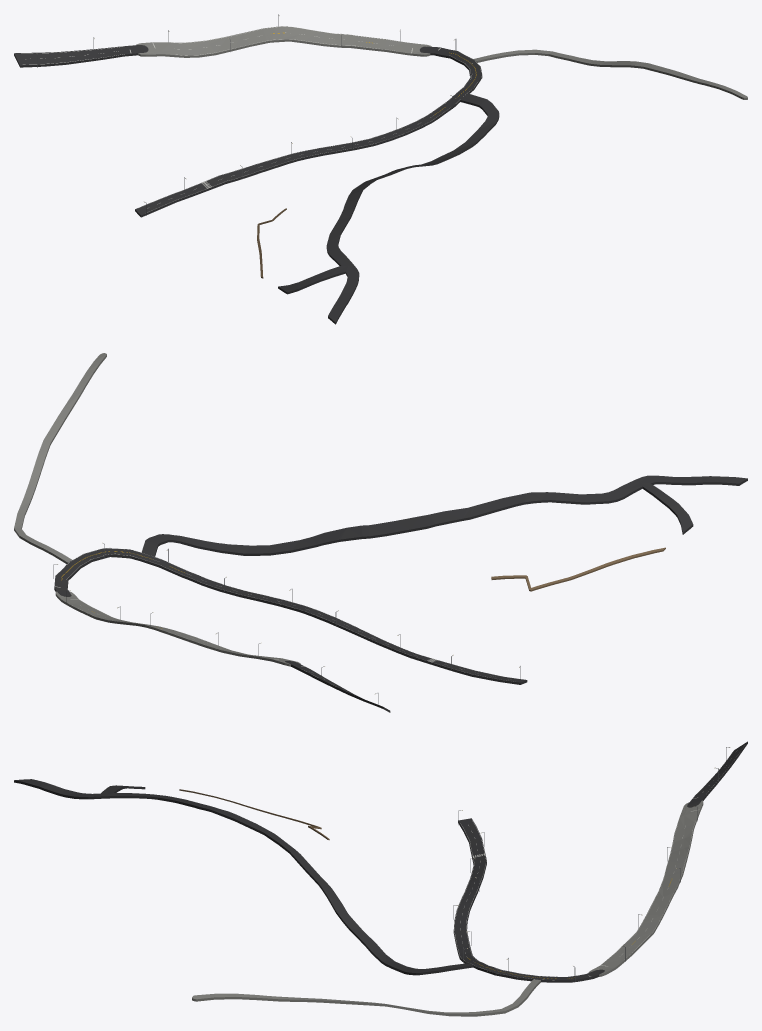
File: 16-54706-29745.dceada09.glb
3 views of the same model, one above another, from view 1: azimuth 30°, elevation 25°; view 2: azimuth 150°, elevation 25°; view 3: azimuth 270°, elevation 25° (orthographic). The views are drawn at different scales.
Bounding box in the file's own units: 304 × 50.72 × 344.
